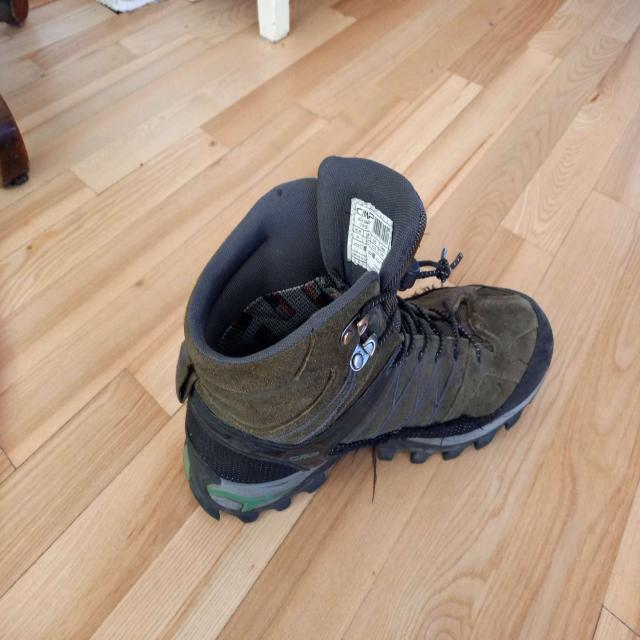shoes: (174, 153, 554, 526)
